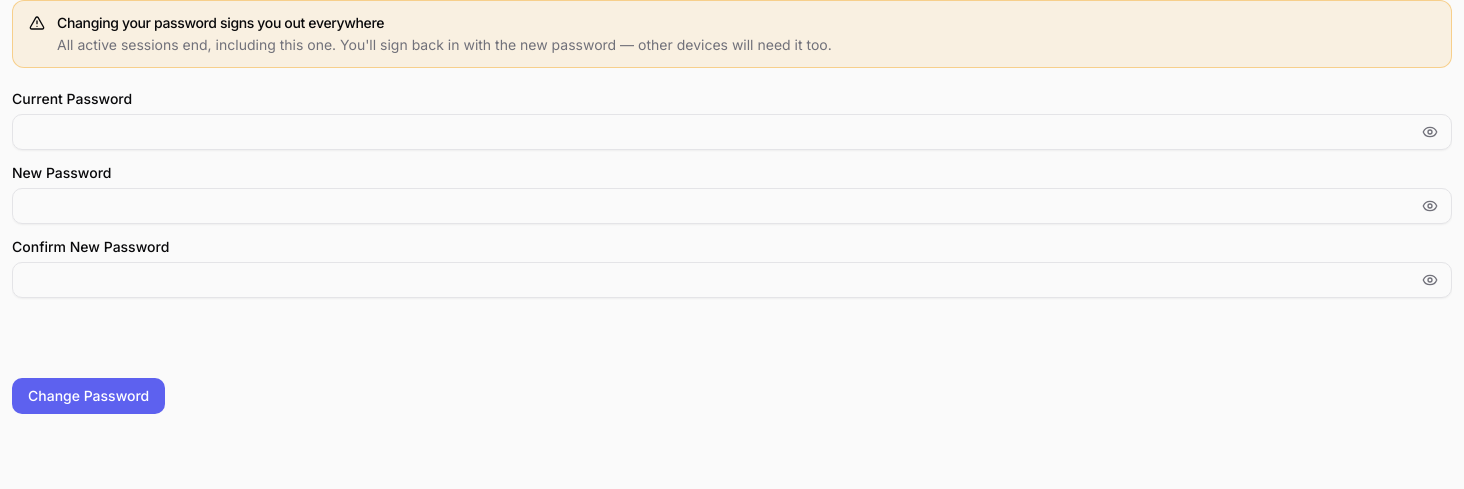
Test: ChangePasswordForm › keeps the session on a wrong-current-password 401 and shows the backend message
Type "WrongPass1" into the password field labelled "Current Password".
click(732, 132); type("WrongPass1")  # box [12, 114, 1452, 150]
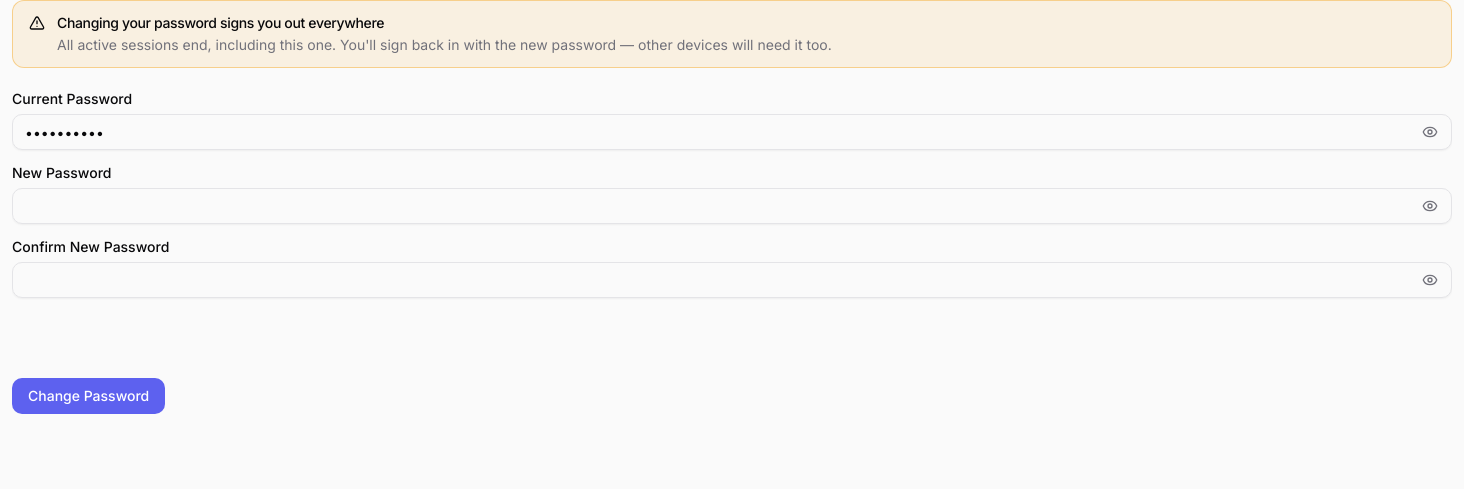
Type "NewPass1" into the password field labelled "New Password".
click(732, 206); type("NewPass1")  # box [12, 188, 1452, 224]
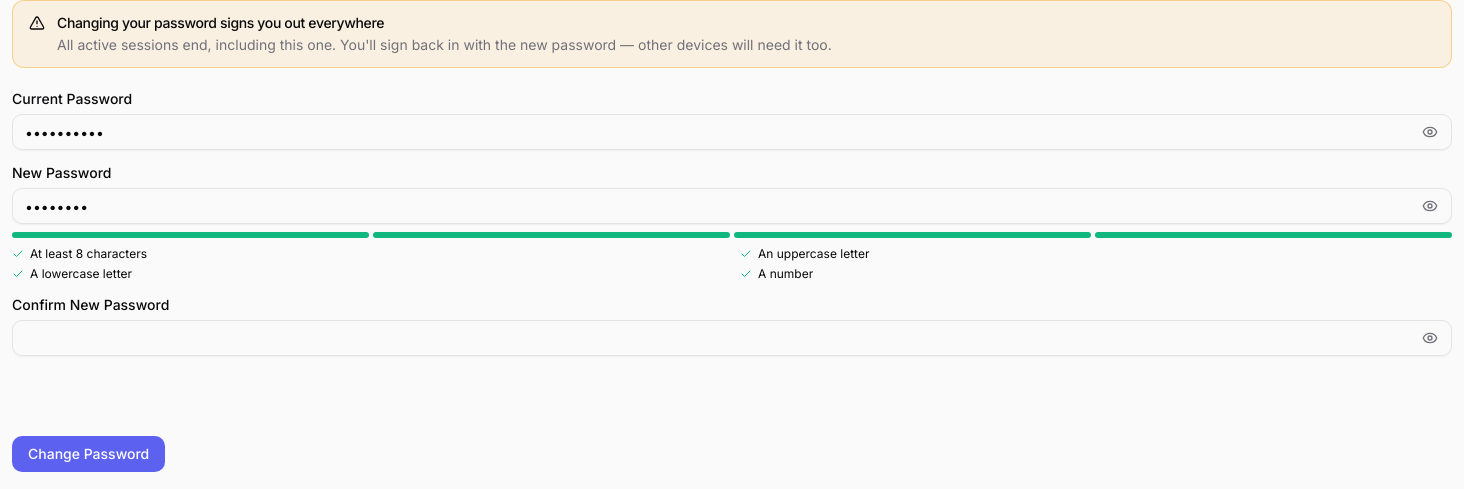
Type "NewPass1" into the password field labelled "Confirm New Password".
click(732, 338); type("NewPass1")  # box [12, 320, 1452, 356]
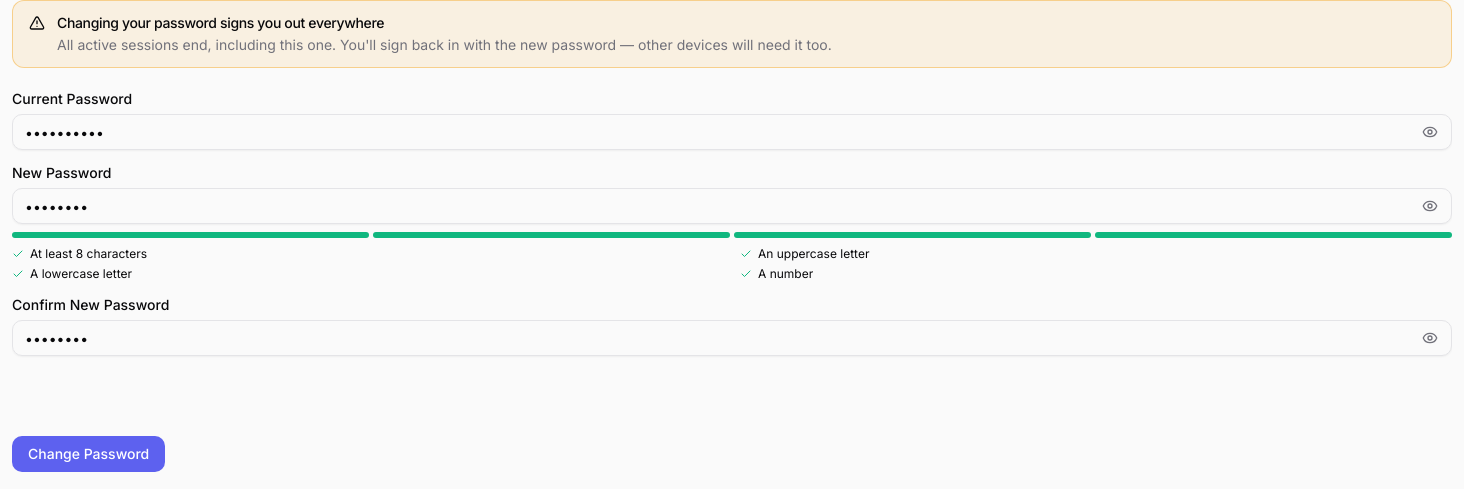
Click the button "Change Password".
click(89, 454)  # box [12, 436, 165, 472]
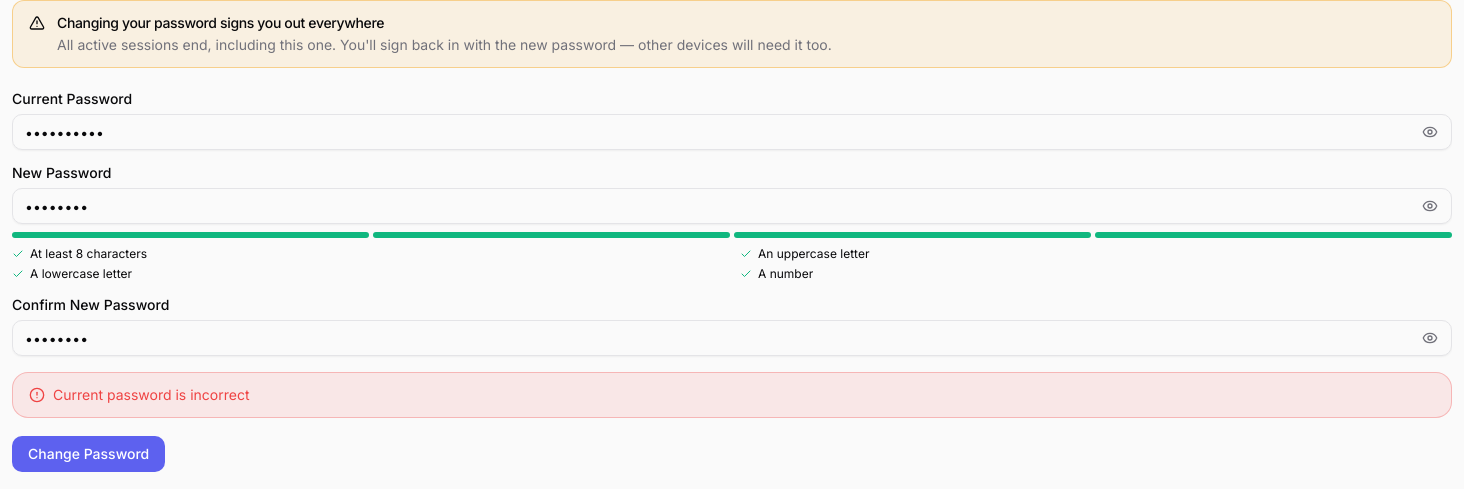
Expected: the text "Current password is incorrect" is shown, [53, 385, 250, 405]
